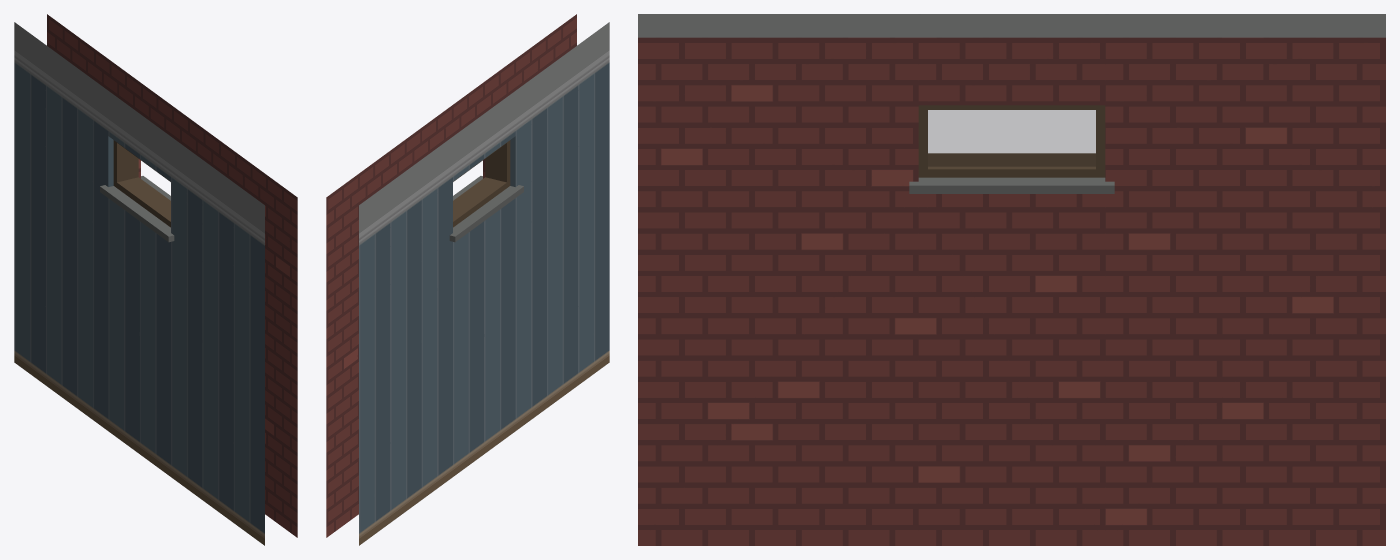
The model's file is SM_window_06.glb.
3 views of the same model, side by side, from view 1: azimuth 30°, elevation 25°; view 2: azimuth 150°, elevation 25°; view 3: azimuth 270°, elevation 25° (orthographic). The views are drawn at different scales.
Visible parts, largest first — view 1: SM_window_06; view 2: SM_window_06; view 3: SM_window_06.
Part boxes in pixels (<box>): SM_window_06: <box>14,14,297,545</box>; SM_window_06: <box>326,14,609,545</box>; SM_window_06: <box>638,14,1385,545</box>.
Bounding box in the file's own units: 0.4 × 3 × 4.
Materials: 4 (3 with a texture image).
